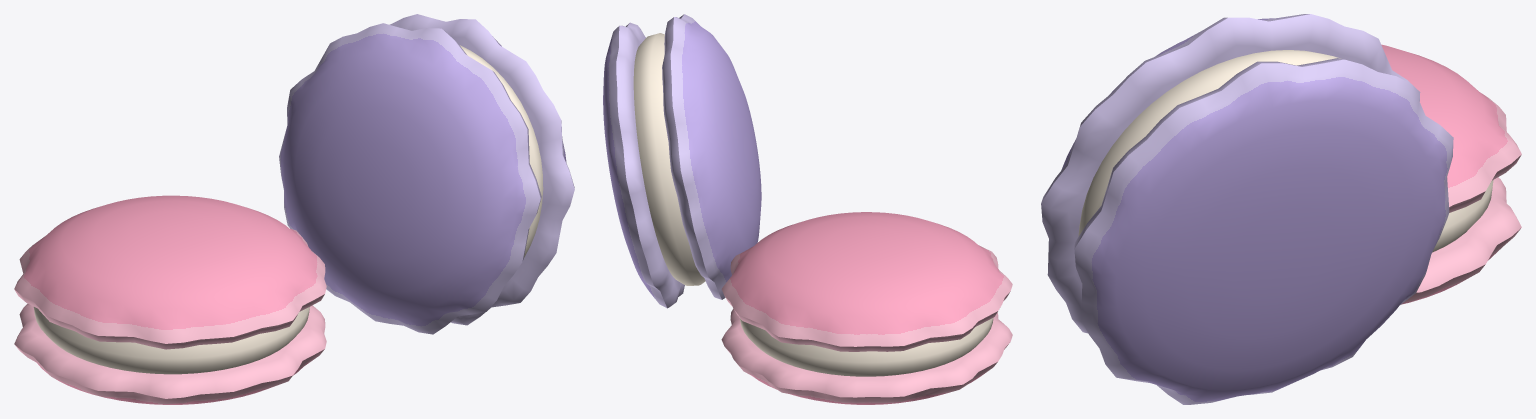
File: Macaron.glb
3 views of the same model, side by side, from view 1: azimuth 30°, elevation 25°; view 2: azimuth 150°, elevation 25°; view 3: azimuth 270°, elevation 25° (orthographic). The views are drawn at different scales.
Visible parts, largest first — view 1: Macaron; view 2: Macaron; view 3: Macaron.
Boxes of the visible parts, x1=… form: Macaron: x1=14, y1=14, x2=574, y2=404; Macaron: x1=603, y1=14, x2=1012, y2=404; Macaron: x1=1041, y1=14, x2=1521, y2=404.
Bounding box in the file's own units: 1.56 × 0.9694 × 1.07.
Materials: 3 (3 with a texture image).
